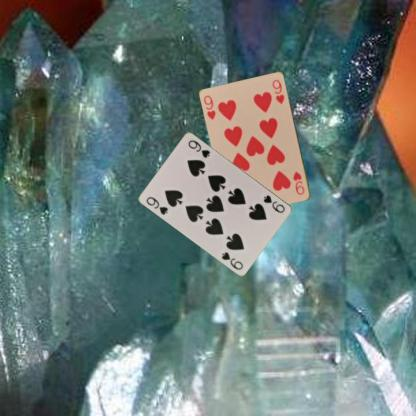9h: (201, 93, 217, 121), (290, 169, 306, 196)
9s: (261, 192, 286, 214), (144, 194, 169, 216)
